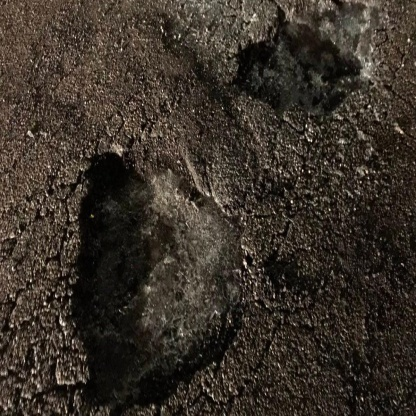pothole: (18, 127, 292, 416), (200, 1, 384, 122)
